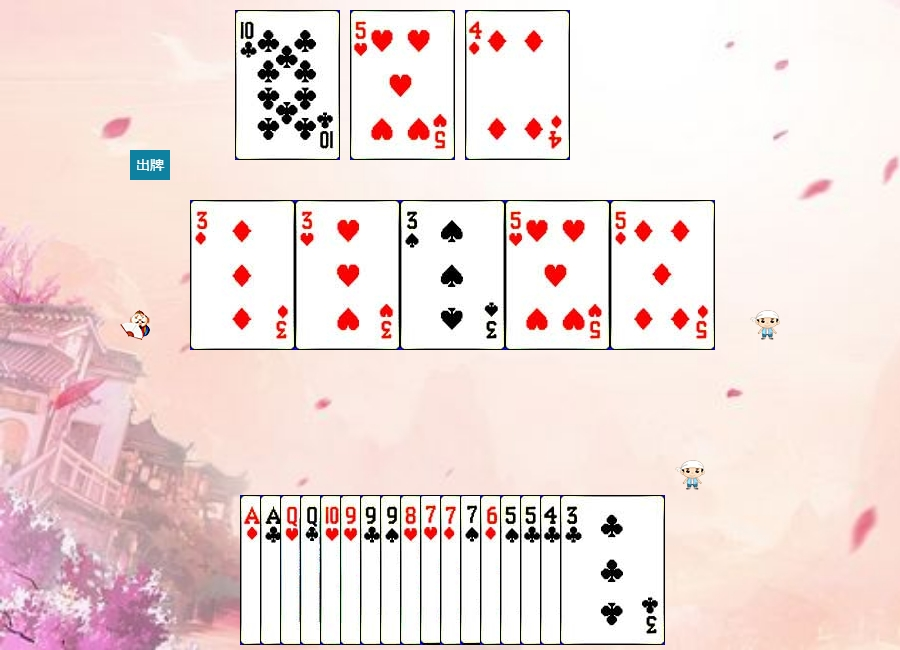10~2: (235, 10, 340, 160)
10~3: (320, 495, 425, 645)
12~2: (300, 495, 405, 645)
12~3: (280, 495, 385, 645)
14~1: (240, 495, 345, 645)
14~2: (260, 495, 365, 645)
3~1: (190, 200, 295, 350)
3~2: (560, 495, 665, 645)
3~3: (295, 200, 400, 350)
3~4: (400, 200, 505, 350)
4~1: (465, 10, 570, 160)
4~2: (540, 495, 645, 645)
5~1: (610, 200, 715, 350)
5~2: (520, 495, 625, 645)
5~3: (350, 10, 455, 160), (505, 200, 610, 350)
5~4: (500, 495, 605, 645)
6~1: (480, 495, 585, 645)
7~1: (440, 495, 545, 645)
7~3: (420, 495, 525, 645)
7~4: (460, 495, 565, 645)
8~3: (400, 495, 505, 645)
9~2: (360, 495, 465, 645)
9~3: (340, 495, 445, 645)
9~4: (380, 495, 485, 645)
